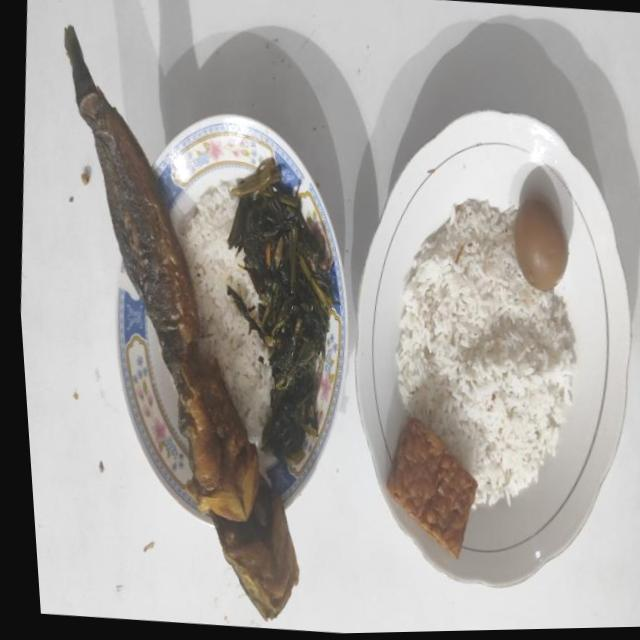nasi_putih: (396, 200, 576, 503), (174, 180, 273, 448)
tempe_goreng: (386, 417, 477, 558)
tumis_kangkung: (226, 158, 338, 461)
